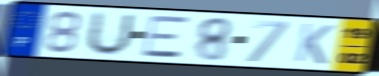7: (246, 19, 291, 63)
8: (192, 16, 235, 62), (44, 10, 82, 54)
E: (140, 15, 191, 59)
K: (292, 22, 336, 66)
U: (82, 10, 137, 57)
